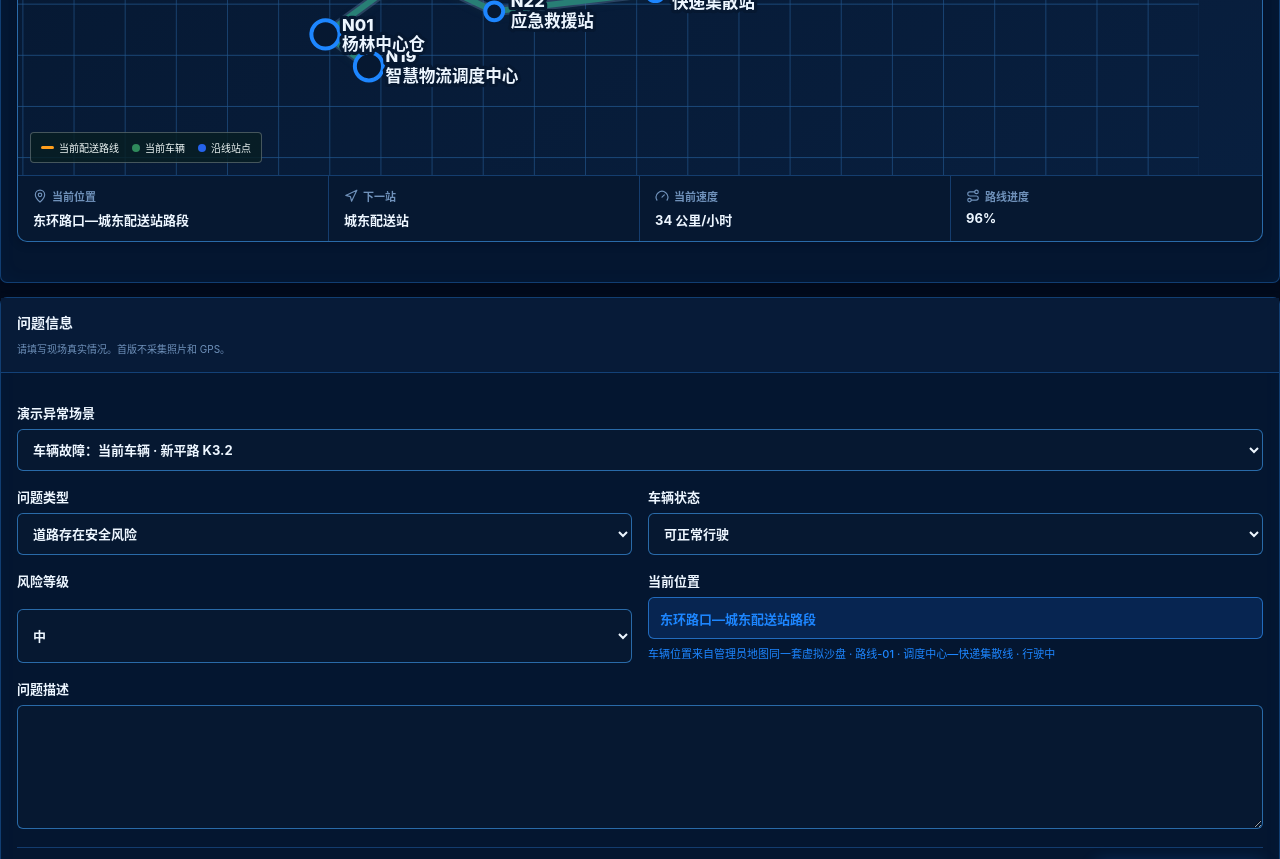
Test: report issue page › keeps the completed result visible when demo reset fails
(page scrolled)
Select "车辆故障：当前车辆 · 新平路 K3.2" in the dropdown labelled "演示异常场景" at (640, 450), box [17,429,1263,471]
(page scrolled)
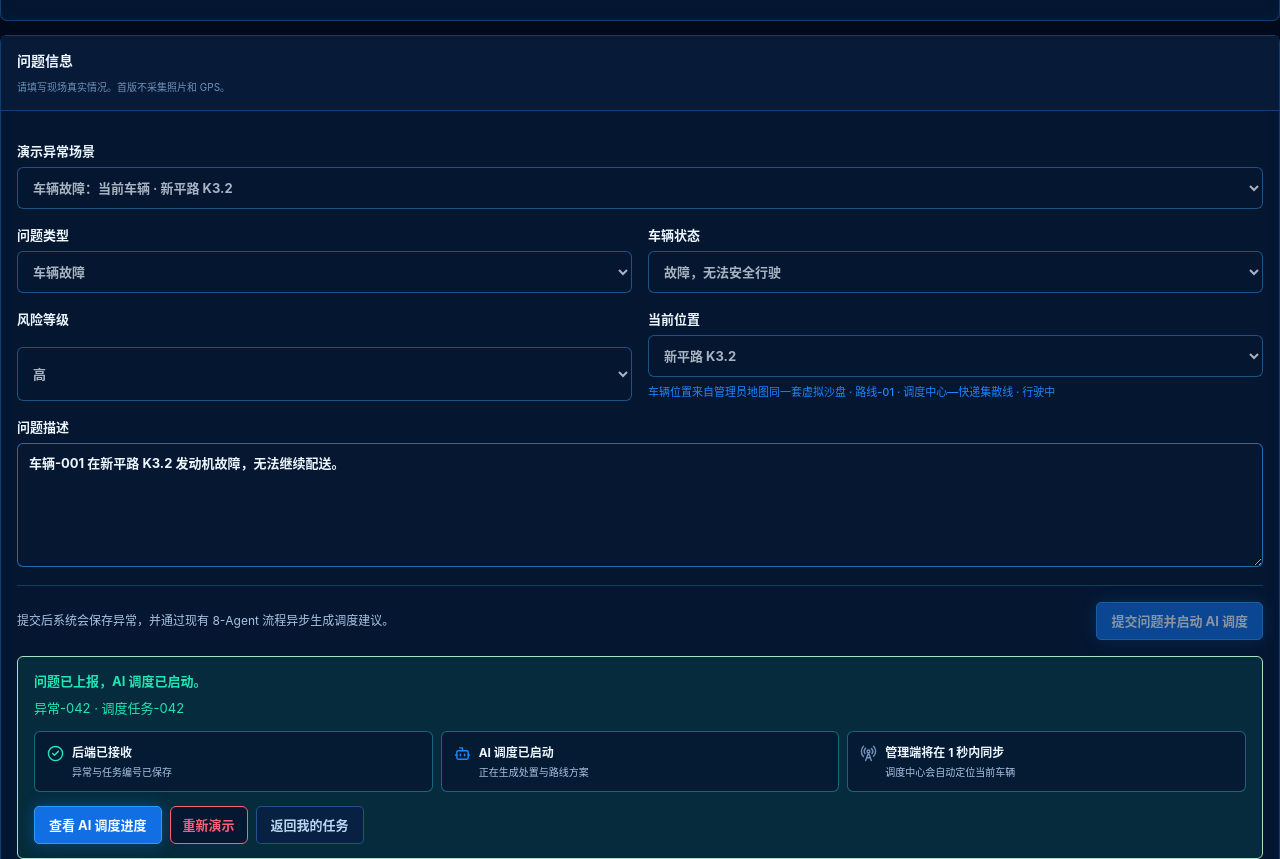
Click the button "重新演示".
click(208, 825)  # box [170,806,248,844]
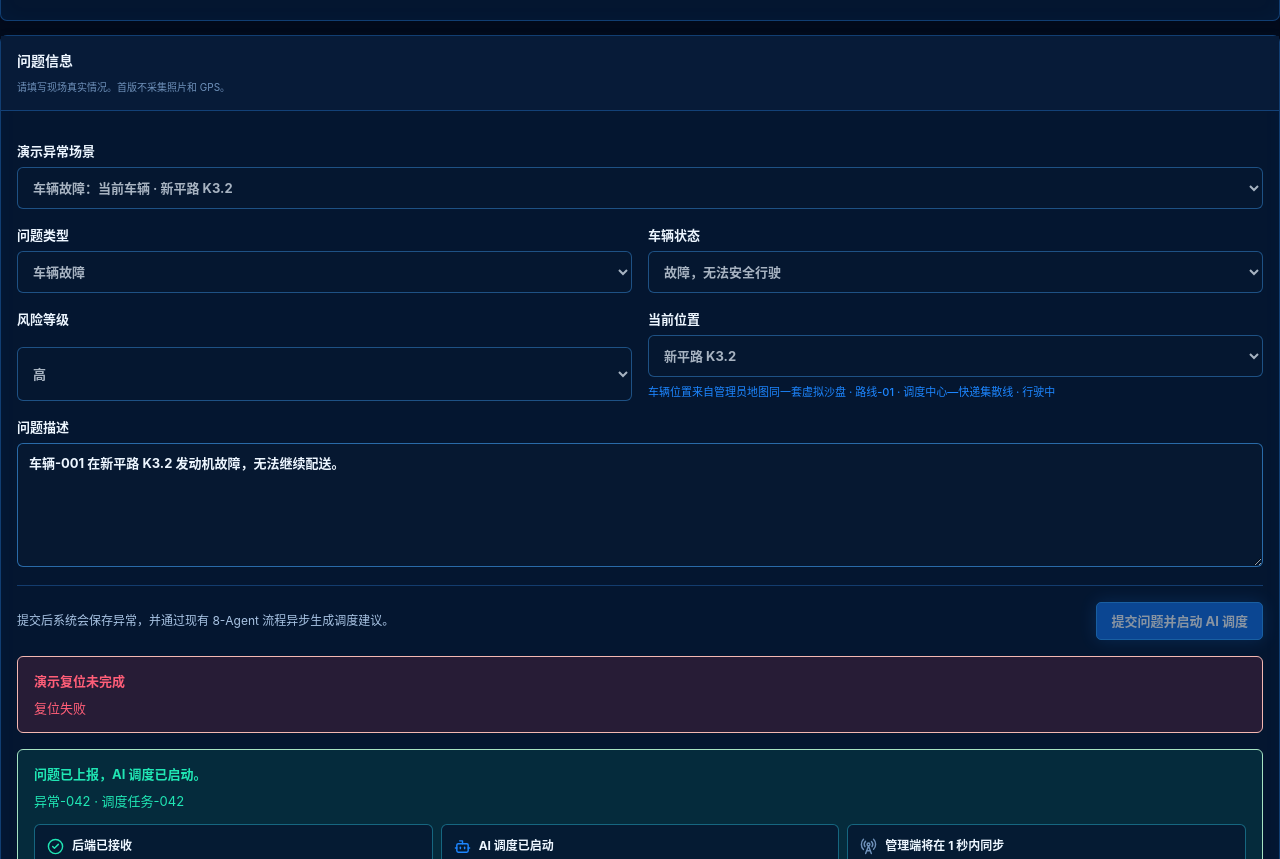
Expected: the text "复位失败" is shown, [34,700,86,716]
